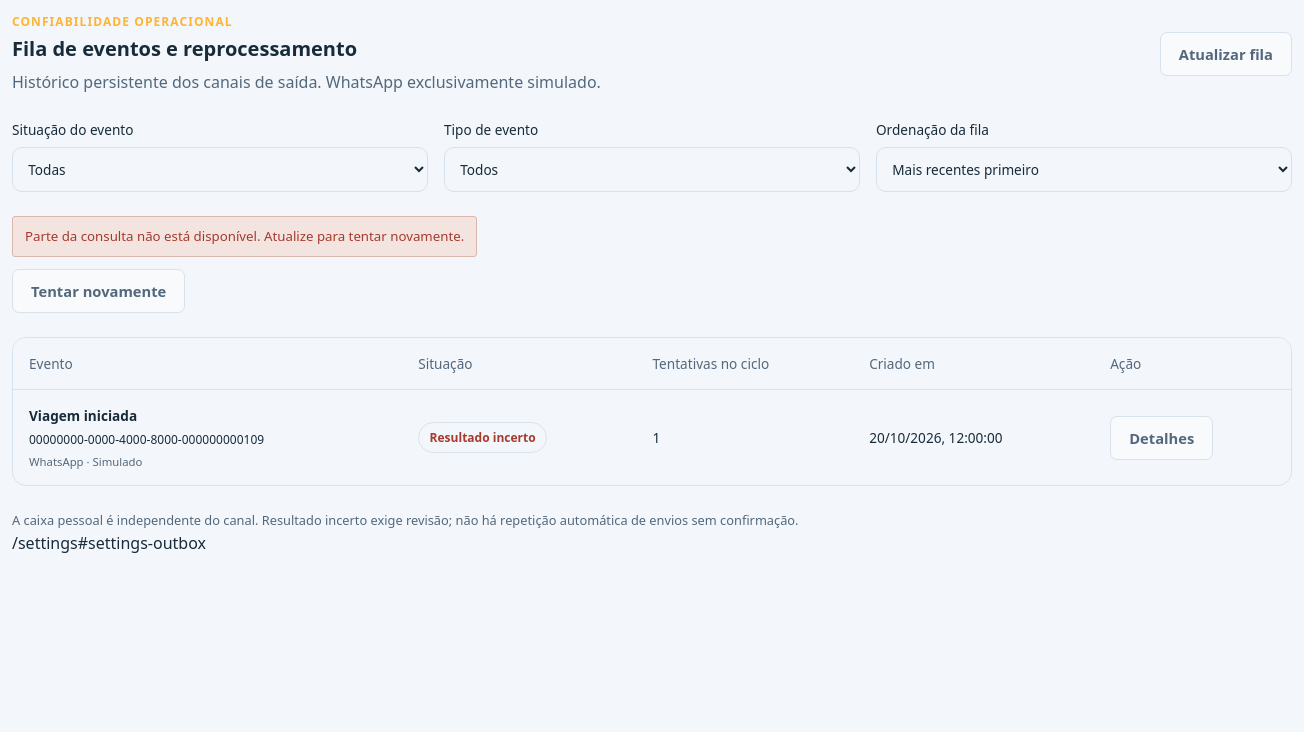
OC109: fila administrativa › falha parcial preserva dados reais com retry
The width and height of the screenshot is (1304, 732).
expect the message shows "Parte da consulta": met, box [25,227,464,245]
expect the cell "Resultado incerto" is shown: met, box [402,390,636,485]
Click the button "Tentar novamente": coordinates (99, 291) [12,269,185,313]
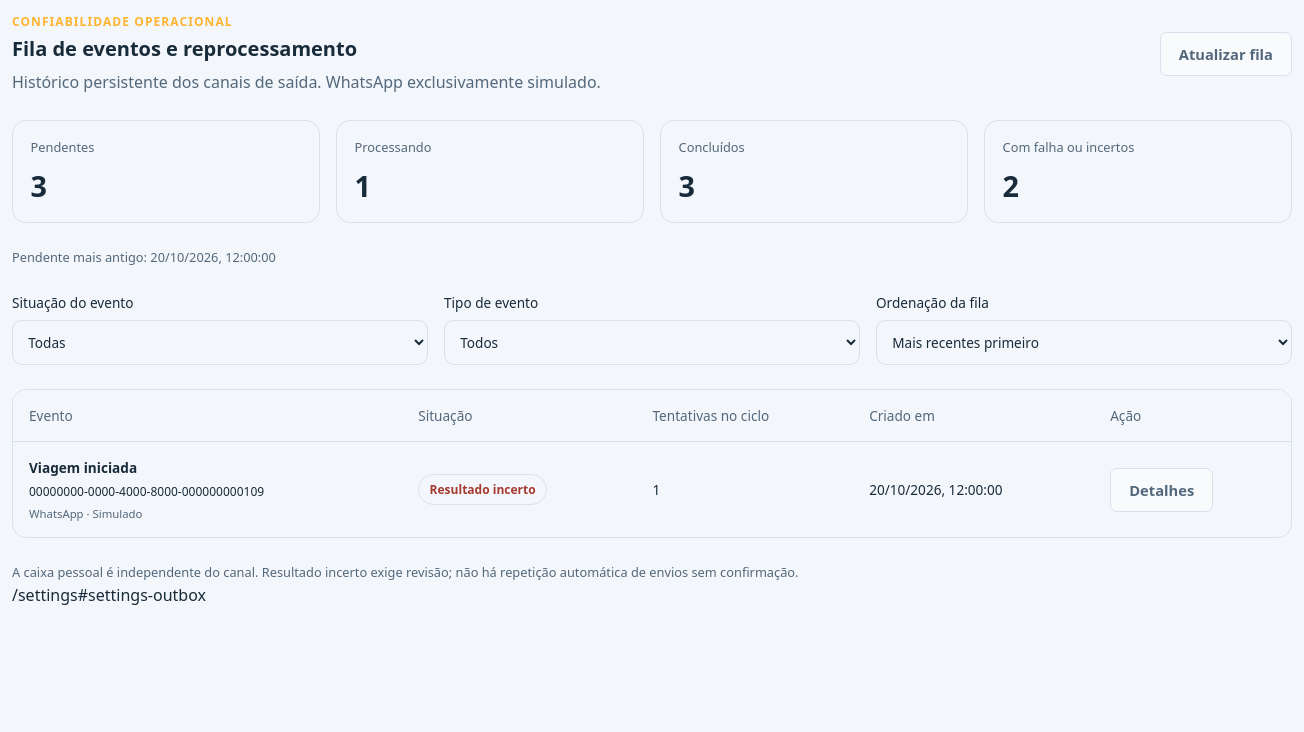
expect the text "Pendentes" is shown: met, box [31,138,94,156]
